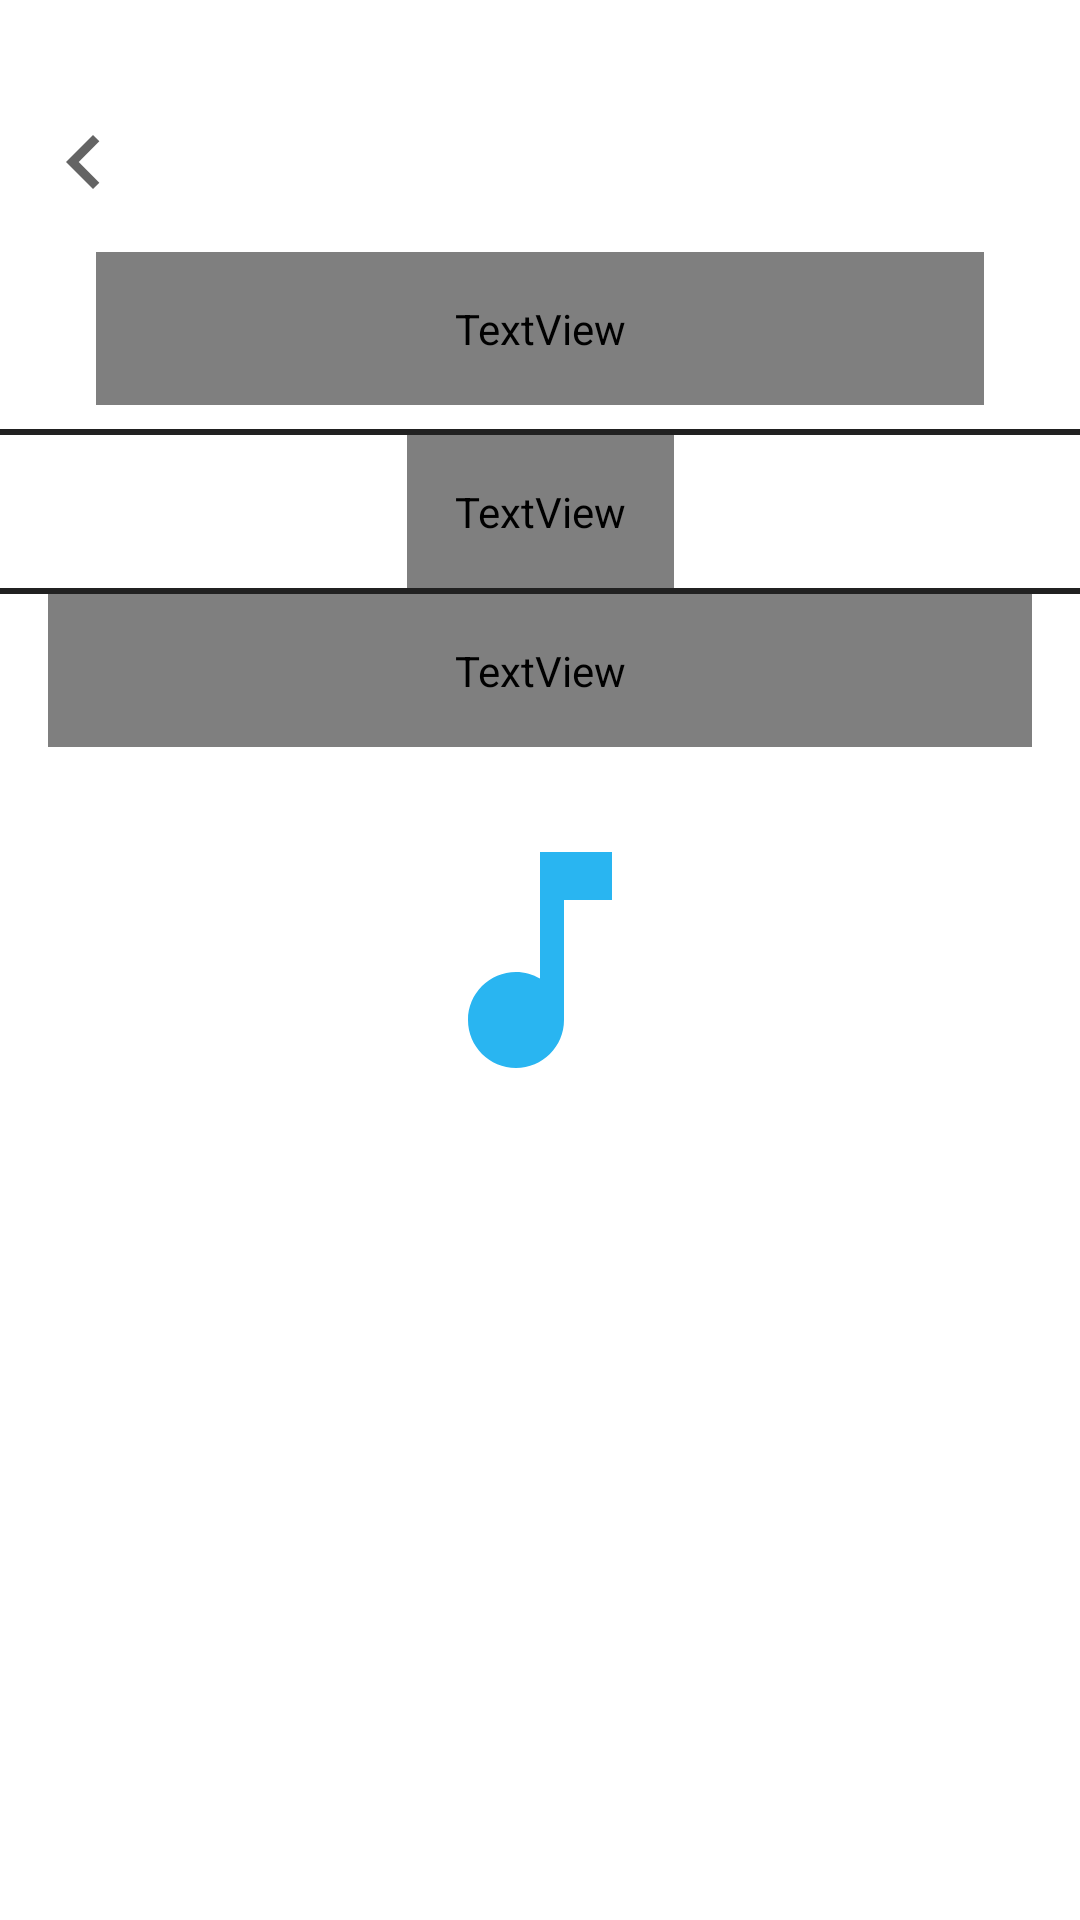

Named icons in this screenshot (1080w x 1920h) and their centers, (x=x, y=y):
button "back": (x=82, y=162)
